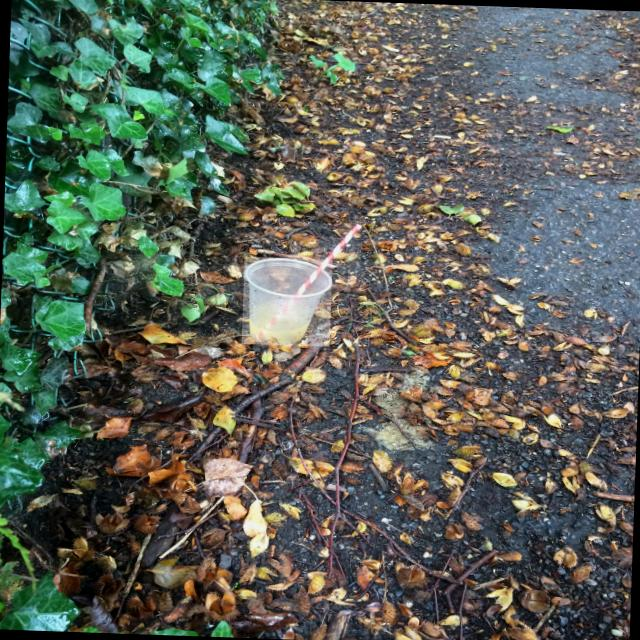Cup: (243, 258, 331, 345)
Straw: (293, 223, 361, 294)
